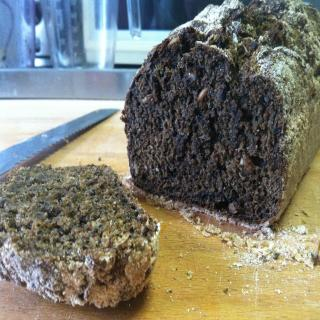Bread: (120, 24, 304, 221), (0, 163, 158, 308)
